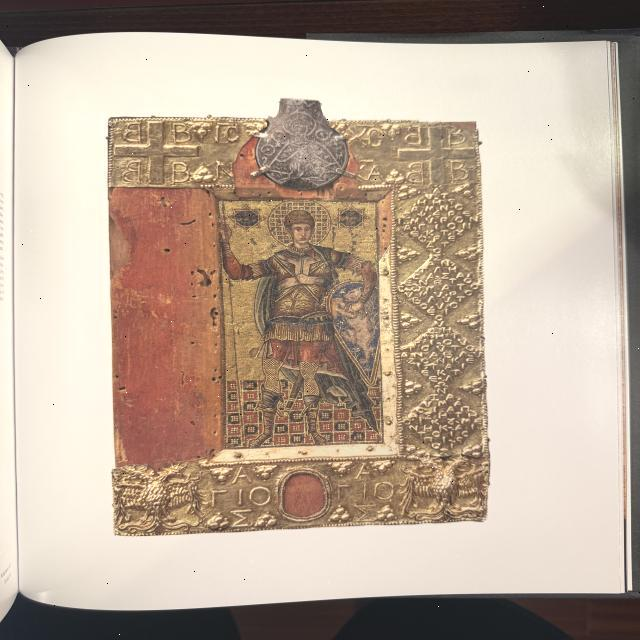aura: (265, 200, 335, 250)
shield: (328, 280, 386, 388)
spear: (219, 203, 251, 448)
st_george: (215, 200, 393, 447)
